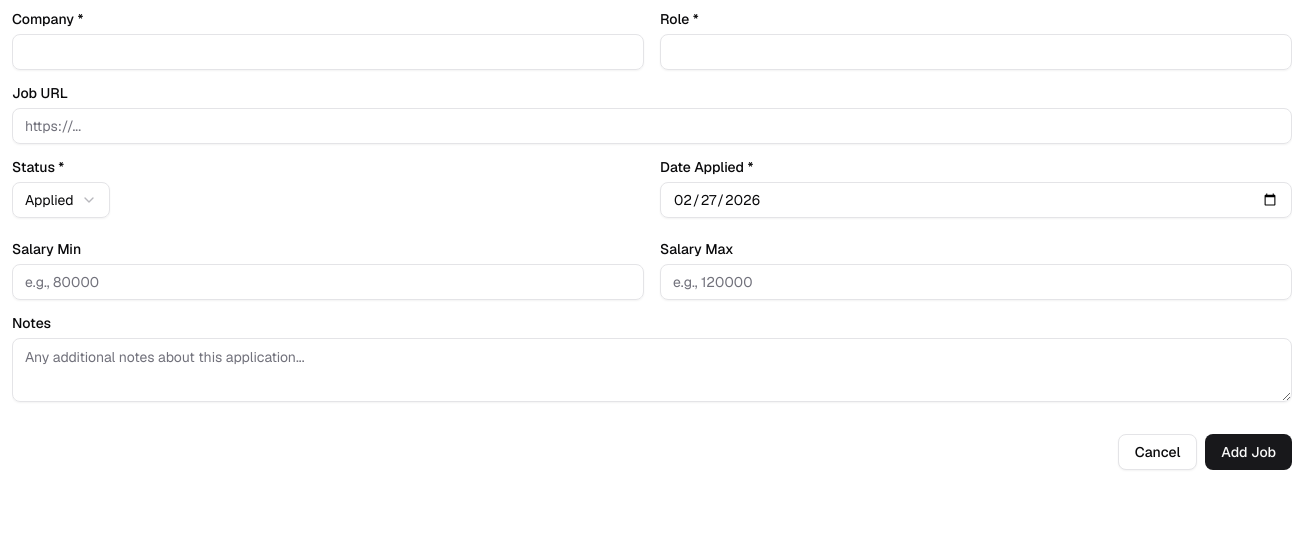
it: JobForm › shows validation error when min salary > max salary
The image size is (1304, 554).
Type "150000" into the number field labelled "Salary Min". click: (328, 282)
box: [12,264,644,300]
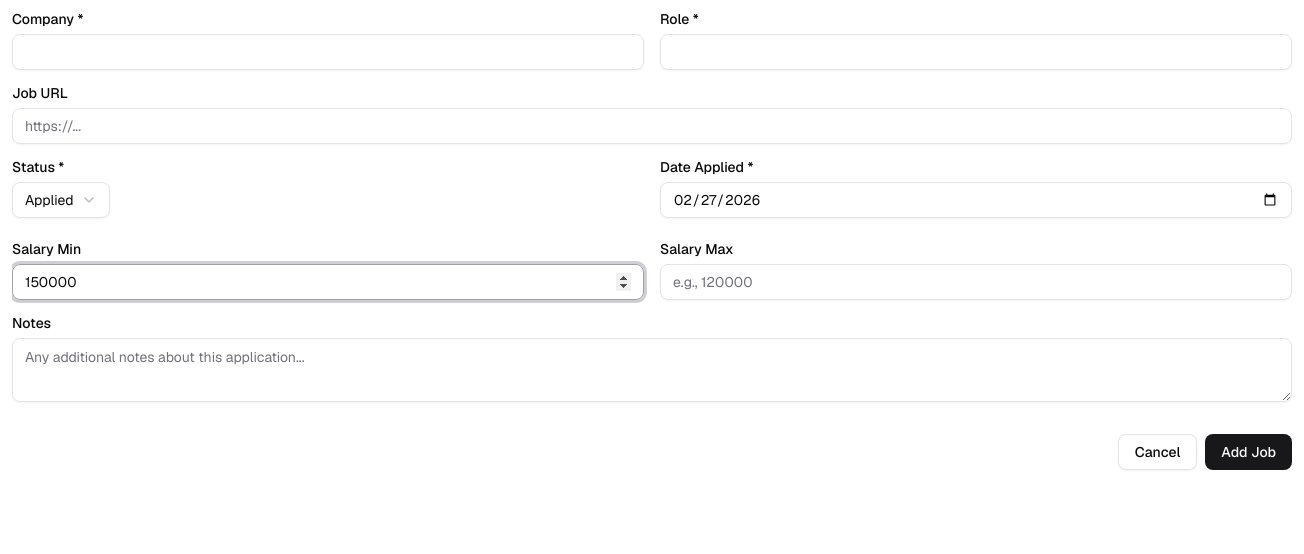
Type "100000" into the number field labelled "Salary Max". click: (976, 282)
box: [660,264,1292,300]
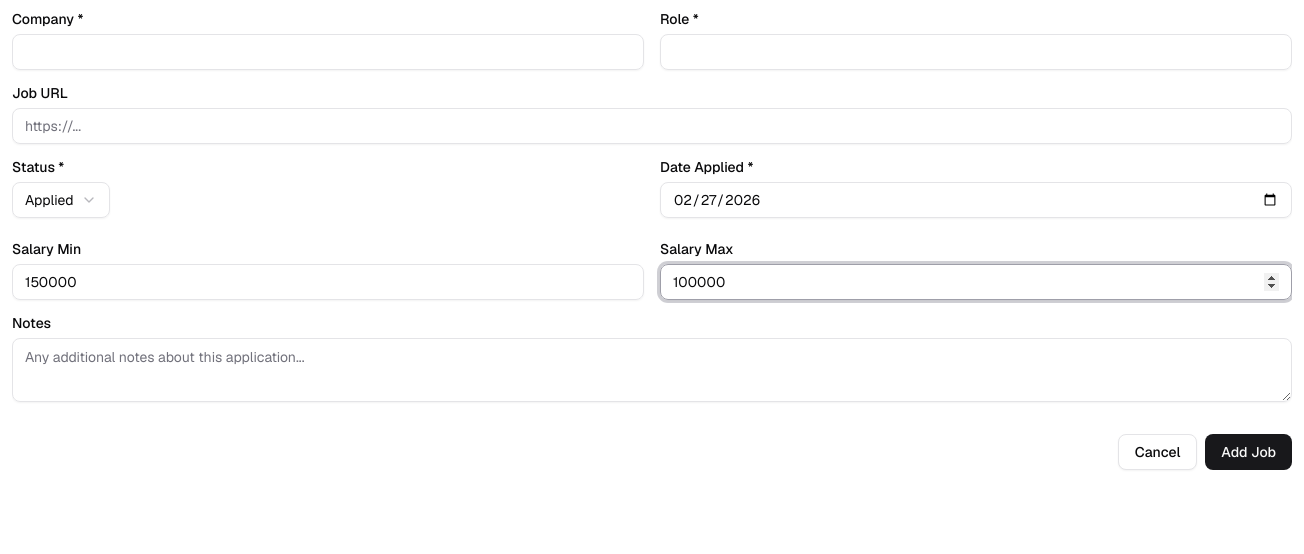
Click the button "Add Job". click: (1249, 452)
box: [1205,434,1292,470]
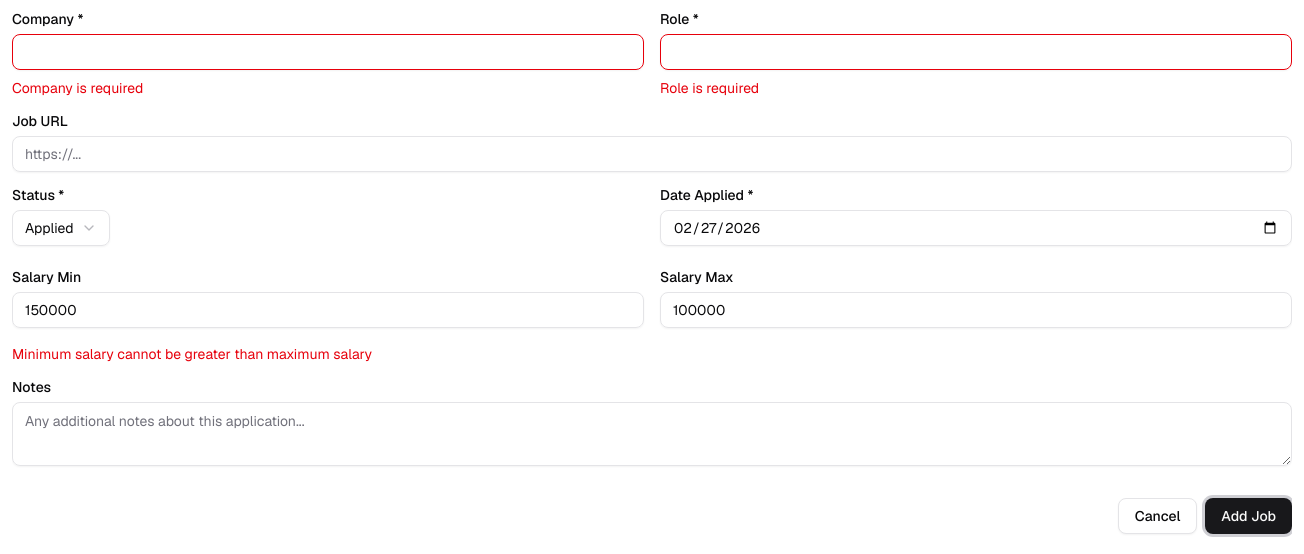
Expected: the text "Minimum salary cannot be greater than maximum salary" is shown, [12,345,372,363]
